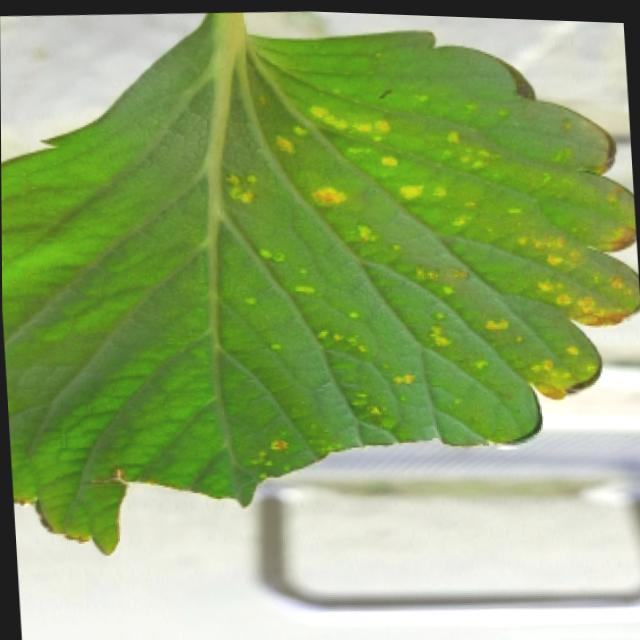Angular Leafspot: (218, 34, 640, 481)
